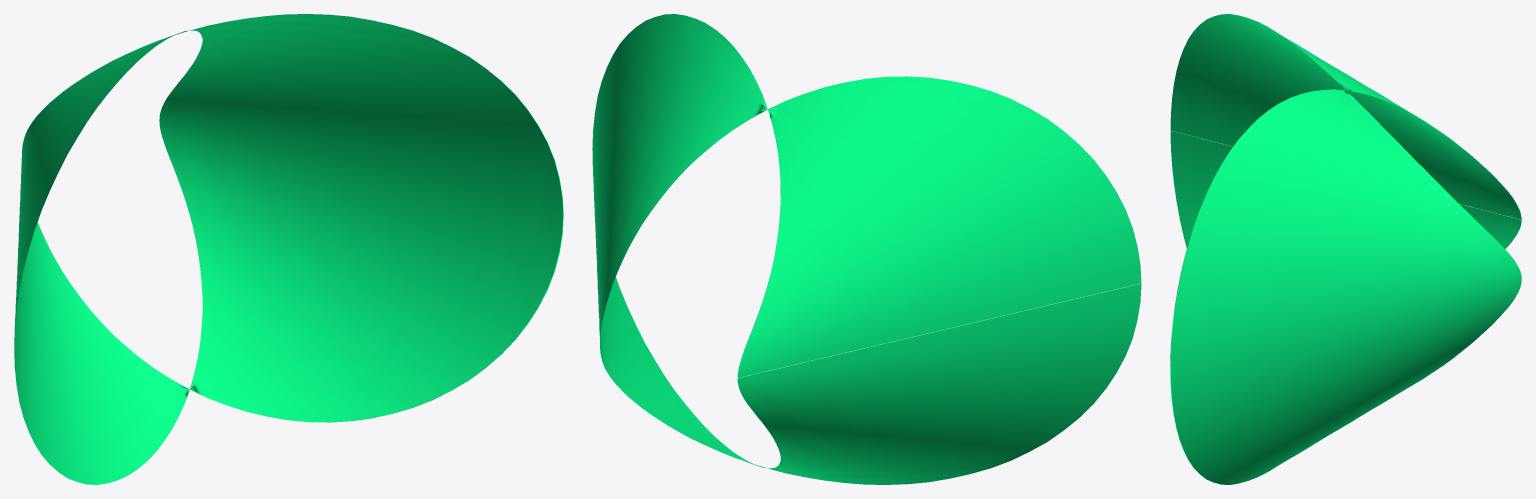
File: scalar_curvature_surface_ar_universal.glb
The picture shows the model from 3 angles, left to right: view 1: azimuth 30°, elevation 25°; view 2: azimuth 150°, elevation 25°; view 3: azimuth 270°, elevation 25°; orthographic projection. The views are drawn at different scales.
Parts seen in each view (by area): view 1: scalar_curvature_surface_ar; view 2: scalar_curvature_surface_ar; view 3: scalar_curvature_surface_ar.
Boxes of the visible parts, <box> form: scalar_curvature_surface_ar: <box>14,14,563,484</box>; scalar_curvature_surface_ar: <box>592,14,1141,484</box>; scalar_curvature_surface_ar: <box>1170,14,1521,484</box>.
Bounding box in the file's own units: 1 × 0.71 × 0.6255.
